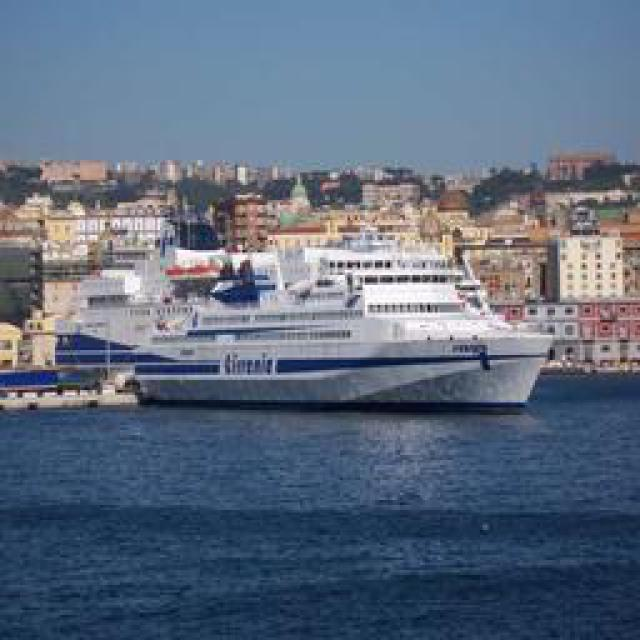Ship: (118, 240, 553, 415)
